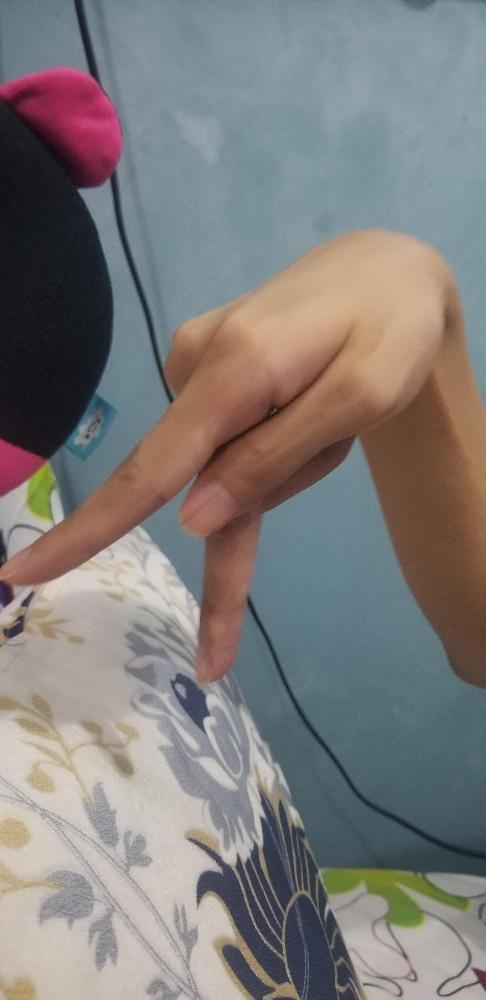p: (0, 222, 466, 689)
